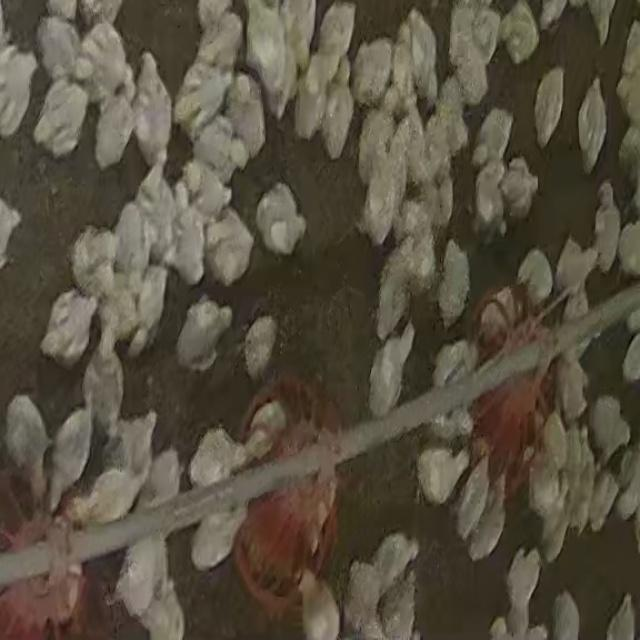chicken: (44, 402, 94, 514), (132, 44, 179, 162), (105, 534, 168, 617), (39, 286, 101, 369), (33, 78, 93, 163), (366, 322, 418, 420), (171, 293, 234, 371), (254, 179, 311, 260), (374, 243, 419, 343), (84, 334, 125, 442), (204, 211, 260, 289), (188, 502, 247, 574), (358, 87, 400, 185), (93, 83, 139, 172), (187, 427, 249, 493), (323, 54, 360, 160), (500, 547, 542, 636), (452, 457, 492, 546), (414, 443, 468, 505), (435, 240, 471, 332), (470, 158, 510, 238), (552, 234, 602, 298), (294, 59, 331, 144), (576, 77, 608, 174), (228, 77, 268, 153), (591, 179, 623, 272), (496, 157, 540, 223), (587, 394, 629, 463), (315, 3, 357, 72), (369, 532, 417, 592), (475, 106, 516, 171), (242, 311, 282, 377), (533, 67, 565, 149), (555, 350, 590, 421), (515, 246, 556, 305), (431, 337, 472, 395), (615, 215, 640, 279)
